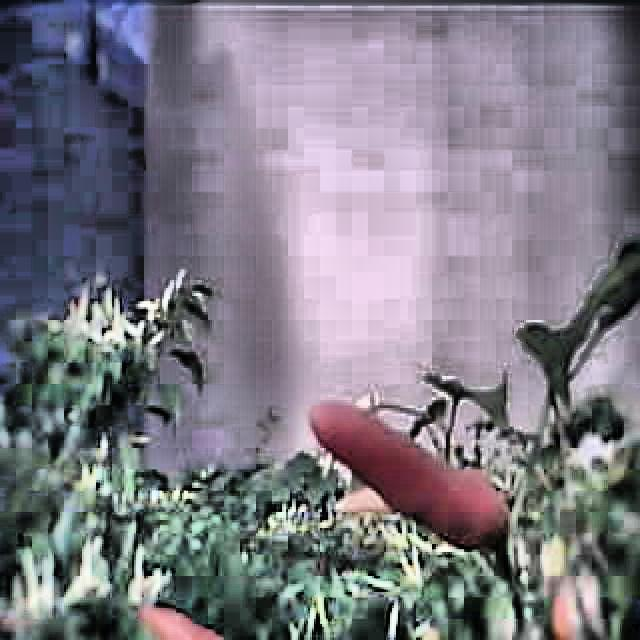Cabai: (312, 402, 517, 562)
